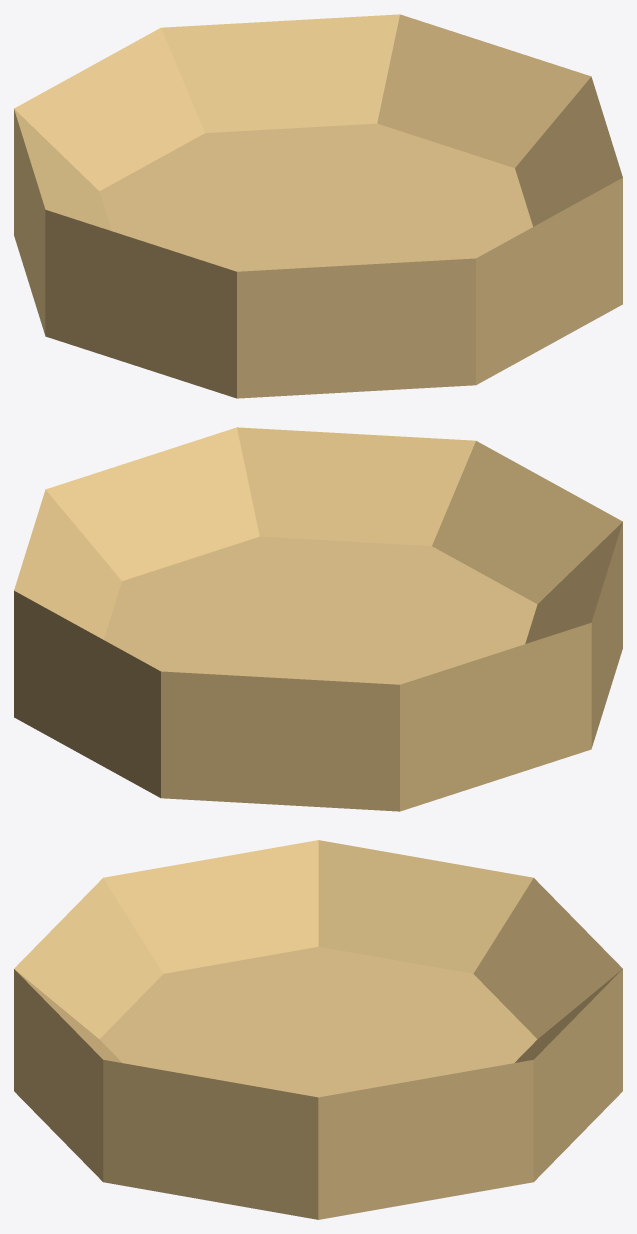
File: plate.fbx
3 renders of one model, top to bottom at view 1: azimuth 30°, elevation 25°; view 2: azimuth 150°, elevation 25°; view 3: azimuth 270°, elevation 25°, orthographic. The views are drawn at different scales.
Visible parts, largest first — view 1: plate; view 2: plate; view 3: plate.
Boxes of the visible parts, x1,y1,x2,y2 form: plate: [14, 14, 622, 398]; plate: [14, 427, 622, 811]; plate: [14, 840, 622, 1219].
Bounding box in the file's own units: 46 × 10.21 × 46.
